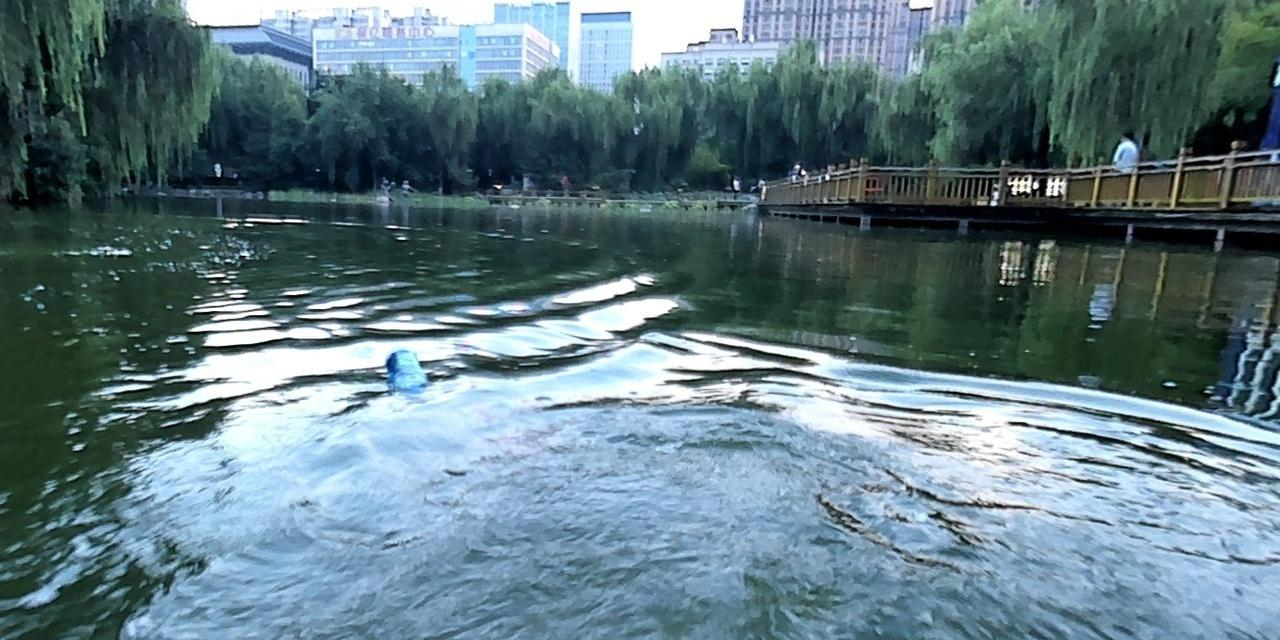bottle: (383, 347, 425, 397)
